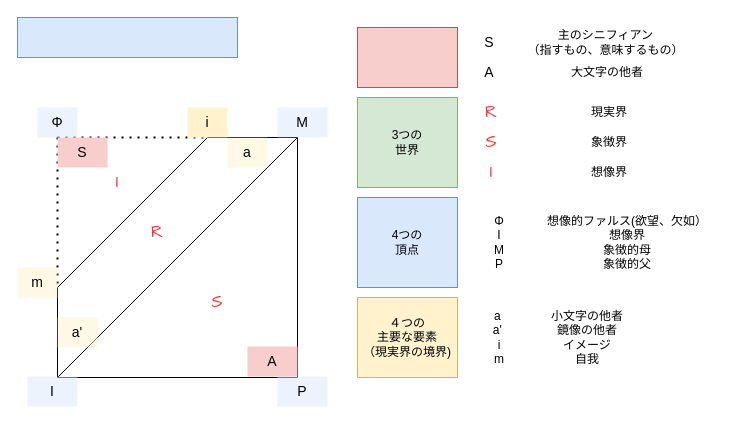
The diagram is 735 pixels wide and 424 high, and some of its shapes have lost their labels. Each missing label, with the centre of its shape:
"主体と他者" goes at [407,57].
"地図 ～ラカン・シェーマRSI～" goes at [127,37].
